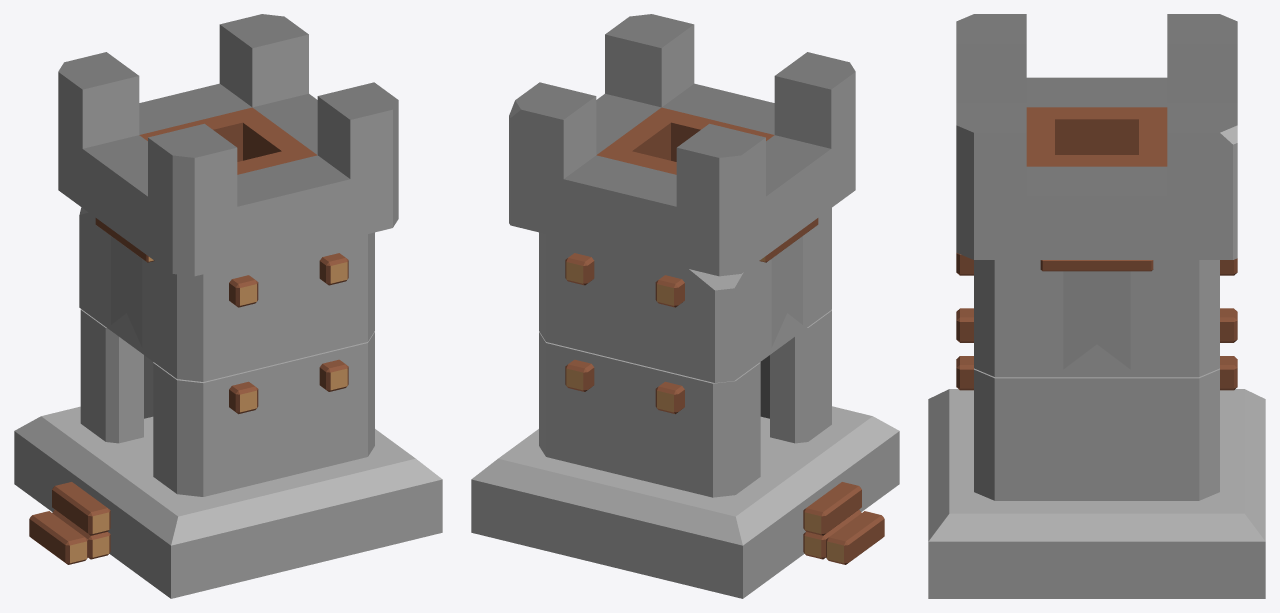
Rendered from Stone Tower.fbx.
The picture shows the model from 3 angles, left to right: view 1: azimuth 30°, elevation 25°; view 2: azimuth 150°, elevation 25°; view 3: azimuth 270°, elevation 25°; orthographic projection. The views are drawn at different scales.
Visible parts, largest first — view 1: Tower_Element_4, Tower_Element_1, Tower_Element_2, Tower_Element_3, Tower_Element_7, Tower_Element_5, Tower_Element_6; view 2: Tower_Element_4, Tower_Element_1, Tower_Element_2, Tower_Element_3, Tower_Element_7, Tower_Element_5, Tower_Element_6; view 3: Tower_Element_4, Tower_Element_1, Tower_Element_2, Tower_Element_3.
Boxes of the visible parts, <box> form: Tower_Element_4: <box>58,14,398,276</box>; Tower_Element_1: <box>14,406,442,598</box>; Tower_Element_2: <box>80,309,374,496</box>; Tower_Element_3: <box>79,207,374,381</box>; Tower_Element_7: <box>52,482,110,535</box>; Tower_Element_5: <box>29,511,87,564</box>; Tower_Element_6: <box>52,510,110,559</box>; Tower_Element_4: <box>509,14,855,276</box>; Tower_Element_1: <box>471,406,899,598</box>; Tower_Element_2: <box>539,310,831,497</box>; Tower_Element_3: <box>539,208,831,382</box>; Tower_Element_7: <box>803,482,861,535</box>; Tower_Element_5: <box>826,511,884,564</box>; Tower_Element_6: <box>803,510,861,559</box>; Tower_Element_4: <box>956,14,1237,259</box>; Tower_Element_1: <box>928,389,1265,598</box>; Tower_Element_2: <box>956,308,1237,500</box>; Tower_Element_3: <box>956,253,1237,377</box>.
Bounding box in the file's own units: 1.4 × 1.78 × 1.2.
3 materials, 2 textured.
